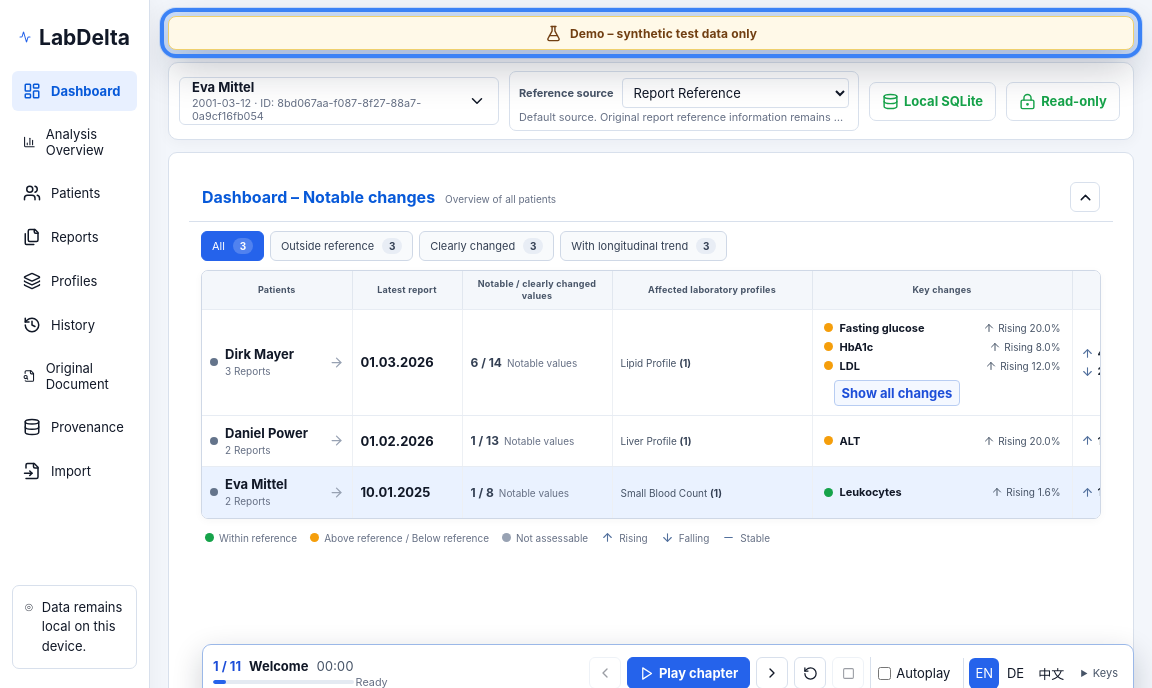
Test: persisted synthetic demo flow › keeps patient overview and analysis as separate sidebar destinations
Expected: the heading "Dashboard – Notable changes" is shown, [202,187,435,207]
Expected: the element that starts with "Patients" is shown, [201,270,1101,518]
Click the button "Analysis Overview" at [74, 142], box [12,115,137,169]
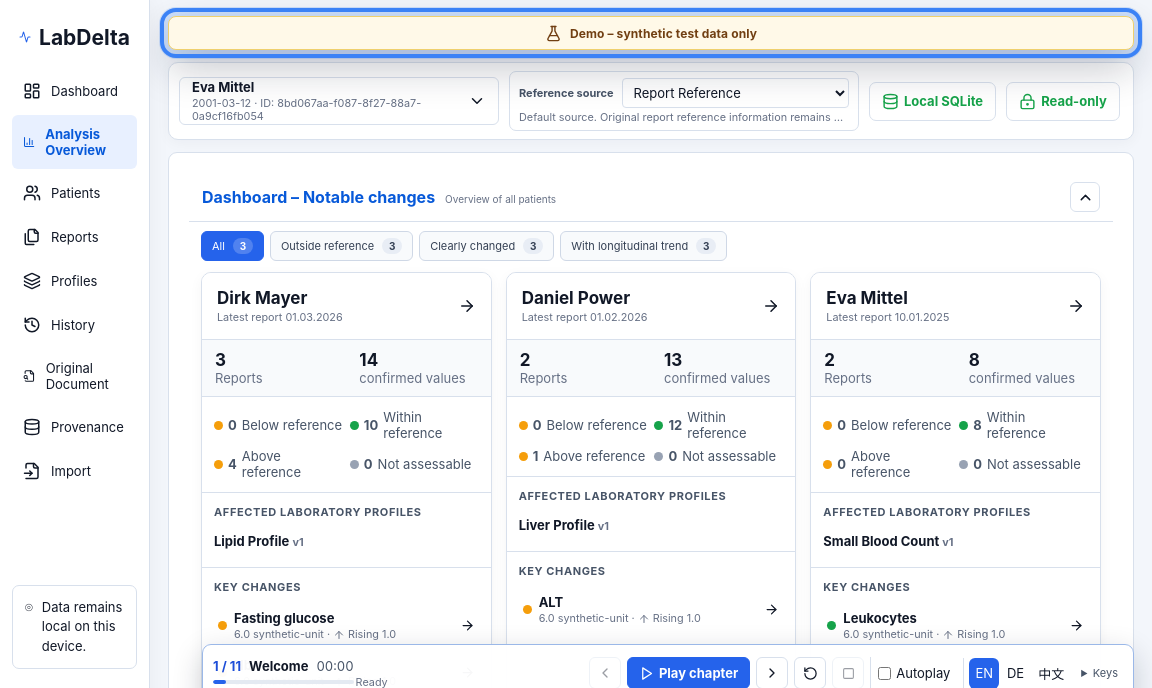
Click the button "Dashboard" at [74, 91], box [12,71,137,111]
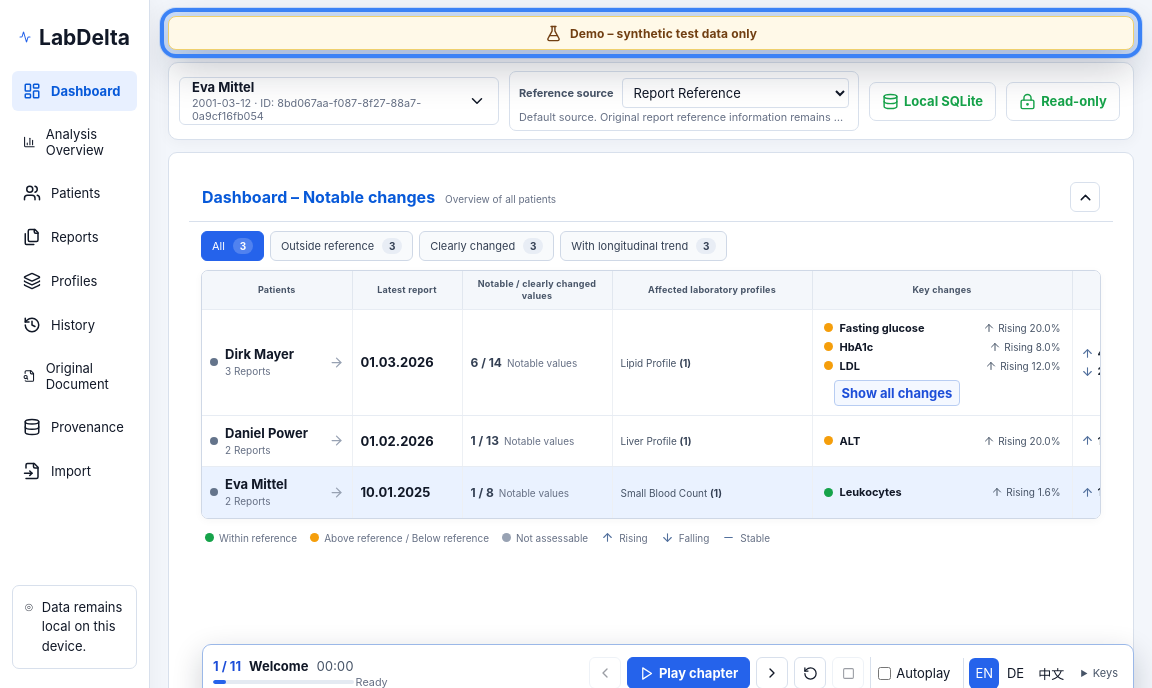
Expected: the element that starts with "Patients" is shown, [201,270,1101,518]
